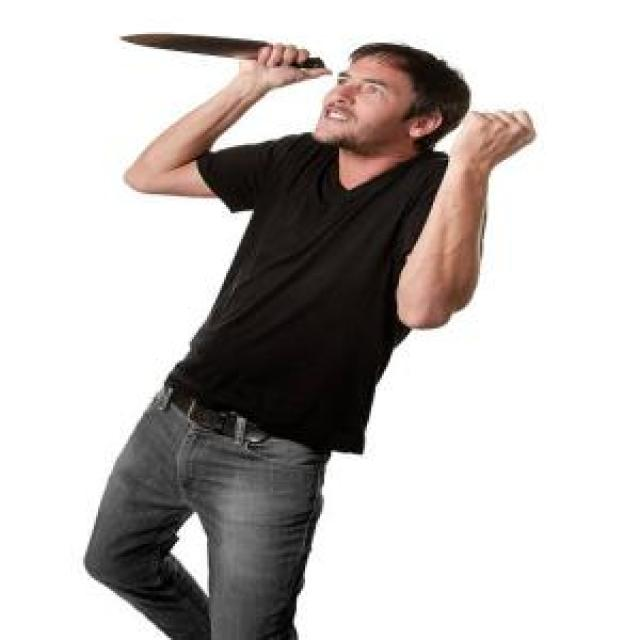knife: (119, 30, 334, 82)
